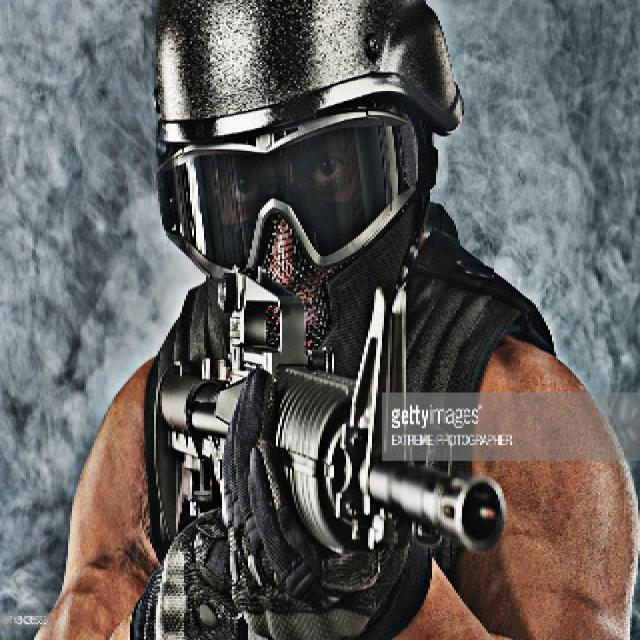long weapon: (156, 259, 520, 567)
